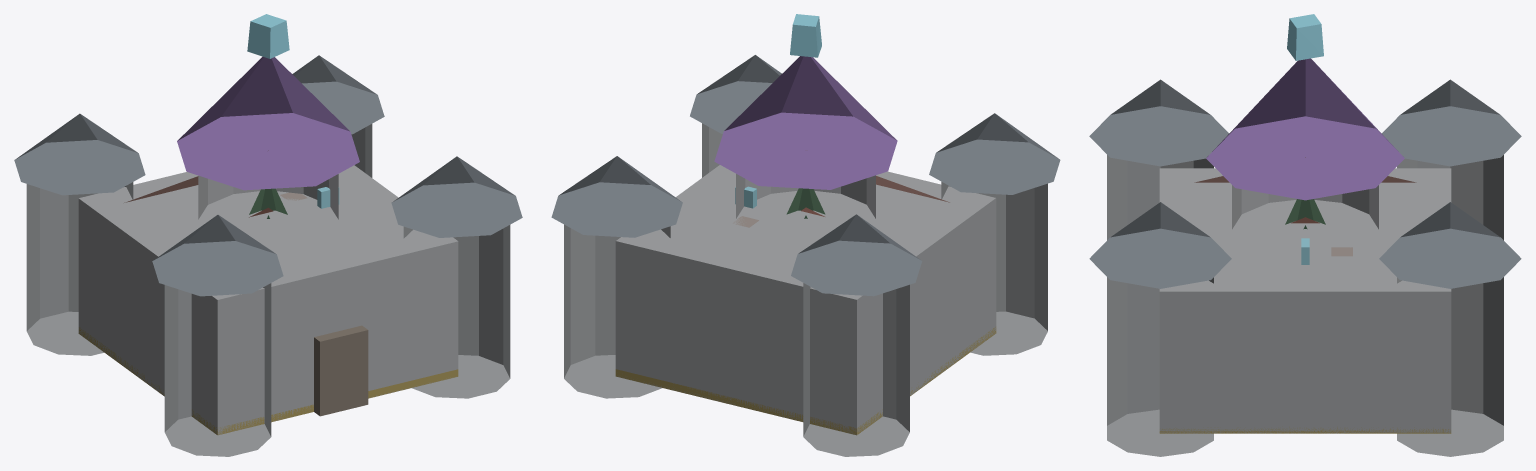
File: settlement-core.glb
3 renders of one model, left to right at view 1: azimuth 30°, elevation 25°; view 2: azimuth 150°, elevation 25°; view 3: azimuth 270°, elevation 25°, orthographic. The views are drawn at different scales.
Parts seen in each view (by area): view 1: keep__keep, keep, wizard_tower__roof, keep__gate, farmstead__field, wizard_tower__tower, wizard_tower__crystal, pine_tree__upper; view 2: keep__keep, keep, wizard_tower__roof, farmstead__field, wizard_tower__tower, wizard_tower__crystal, pine_tree__upper; view 3: keep__keep, keep, wizard_tower__roof, wizard_tower__tower, wizard_tower__crystal, farmstead__field, pine_tree__upper.
Part boxes in pixels (bbox=[...]): keep__keep: bbox=[78, 165, 458, 434]; keep: bbox=[14, 55, 522, 456]; wizard_tower__roof: bbox=[177, 56, 359, 190]; keep__gate: bbox=[314, 325, 368, 416]; farmstead__field: bbox=[78, 327, 458, 435]; wizard_tower__tower: bbox=[198, 174, 338, 219]; wizard_tower__crystal: bbox=[247, 14, 289, 58]; pine_tree__upper: bbox=[249, 188, 287, 214]; keep__keep: bbox=[615, 165, 996, 434]; keep: bbox=[551, 55, 1060, 456]; wizard_tower__roof: bbox=[714, 56, 897, 189]; farmstead__field: bbox=[615, 327, 996, 435]; wizard_tower__tower: bbox=[736, 174, 875, 218]; wizard_tower__crystal: bbox=[790, 14, 821, 57]; pine_tree__upper: bbox=[786, 188, 825, 214]; keep__keep: bbox=[1159, 168, 1451, 433]; keep: bbox=[1089, 79, 1521, 456]; wizard_tower__roof: bbox=[1206, 58, 1404, 200]; wizard_tower__tower: bbox=[1232, 185, 1378, 229]; wizard_tower__crystal: bbox=[1287, 14, 1323, 60]; farmstead__field: bbox=[1159, 427, 1451, 433]; pine_tree__upper: bbox=[1285, 199, 1325, 224].
Size of the model in its own units: 4 by 3.58 by 4.
